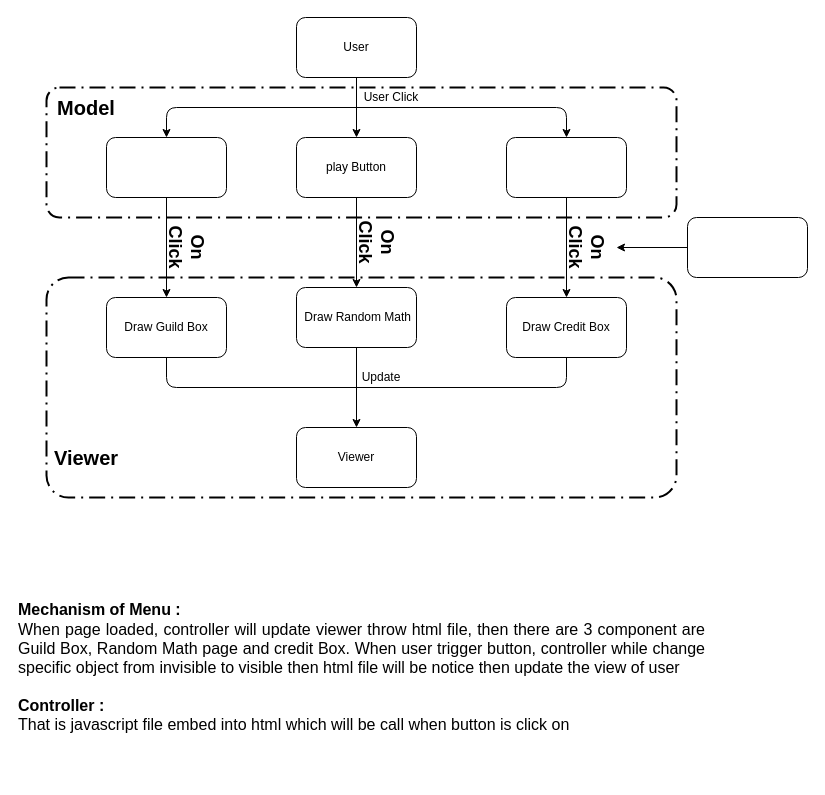
This 825x795 diagram has some shape labels left out. Each missing label, with the centre of its shape:
"Controller (js file)" goes at (747,247).
"credit Button" goes at (566,167).
"Guid Button" goes at (166,167).
